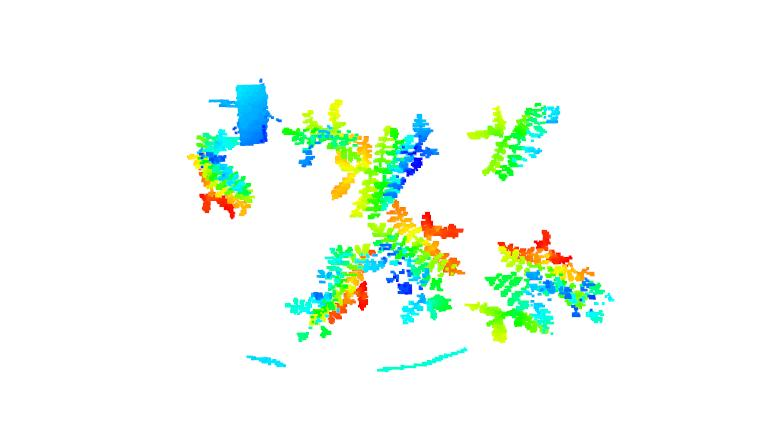chickpea: (469, 229, 612, 343), (366, 207, 463, 326), (334, 112, 440, 218), (279, 241, 387, 345), (467, 100, 566, 183), (273, 97, 362, 170), (188, 130, 254, 223)
